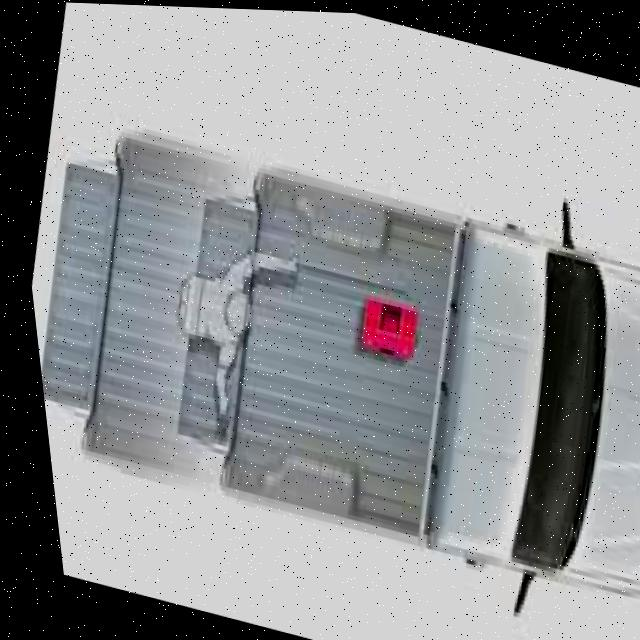truck: (172, 149, 640, 604)
